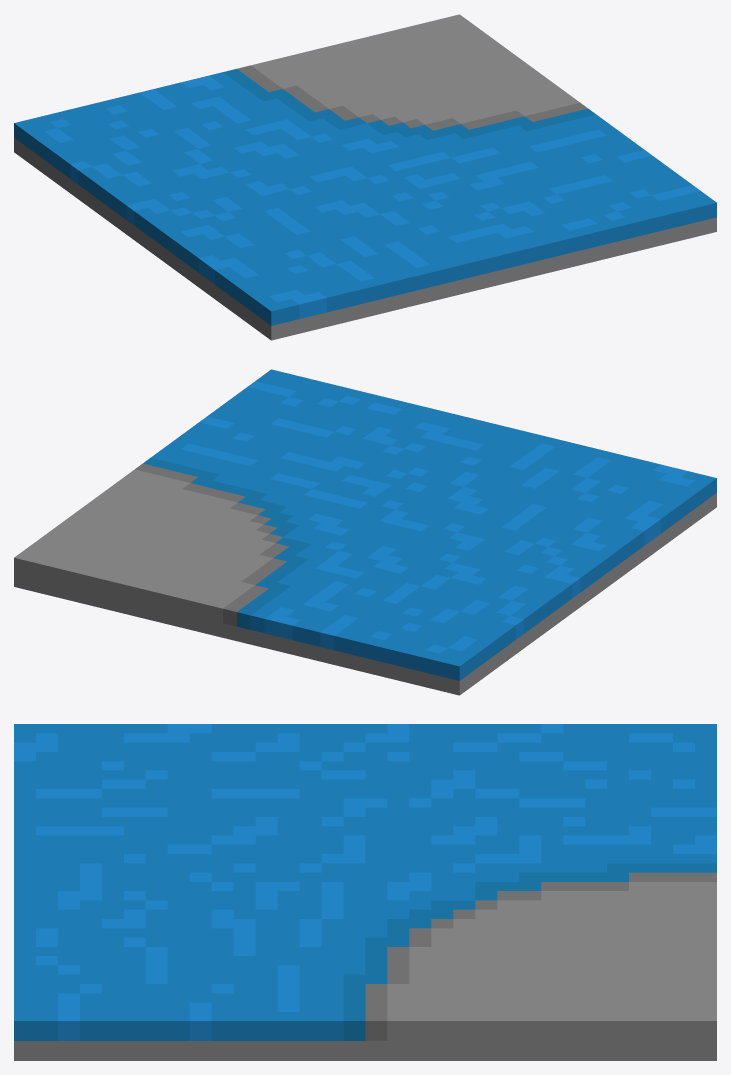
File: city-water-rounded-edge-outer-1.gltf
The picture shows the model from 3 angles, top to bottom: view 1: azimuth 30°, elevation 25°; view 2: azimuth 150°, elevation 25°; view 3: azimuth 270°, elevation 25°; orthographic projection. The views are drawn at different scales.
Parts seen in each view (by area): view 1: city-water-rounded-edge-outer-1; view 2: city-water-rounded-edge-outer-1; view 3: city-water-rounded-edge-outer-1.
Part boxes in pixels (x1,y1,x2,y2): city-water-rounded-edge-outer-1: (14,14,716,340); city-water-rounded-edge-outer-1: (14,369,716,695); city-water-rounded-edge-outer-1: (14,724,716,1060).
Size of the model in its own units: 3.2 by 0.2 by 3.2.
Materials: 1 (1 with a texture image).
